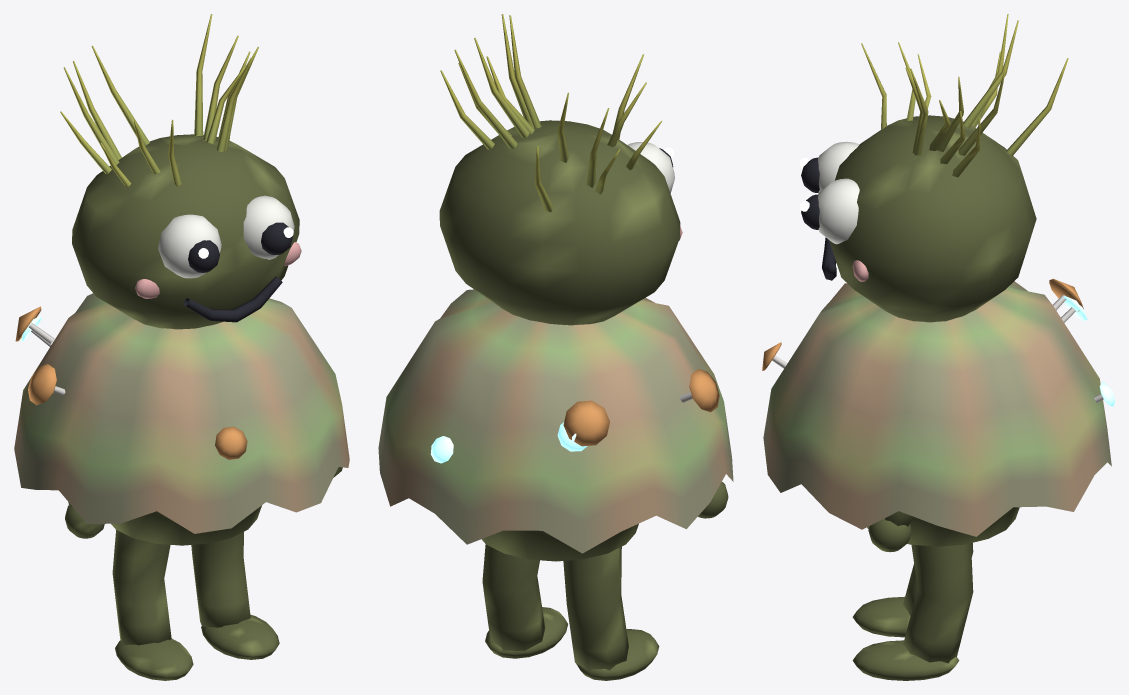
Rendered from sporekin_1.glb.
3 views of the same model, side by side, from view 1: azimuth 30°, elevation 25°; view 2: azimuth 150°, elevation 25°; view 3: azimuth 270°, elevation 25° (orthographic). The views are drawn at different scales.
Visible parts, largest first — view 1: Sporekin1; view 2: Sporekin1; view 3: Sporekin1.
Boxes of the visible parts, x1=… form: Sporekin1: x1=14, y1=14, x2=349, y2=680; Sporekin1: x1=378, y1=14, x2=733, y2=680; Sporekin1: x1=762, y1=14, x2=1114, y2=680.
Bounding box in the file's own units: 0.8906 × 1.72 × 0.8913.
